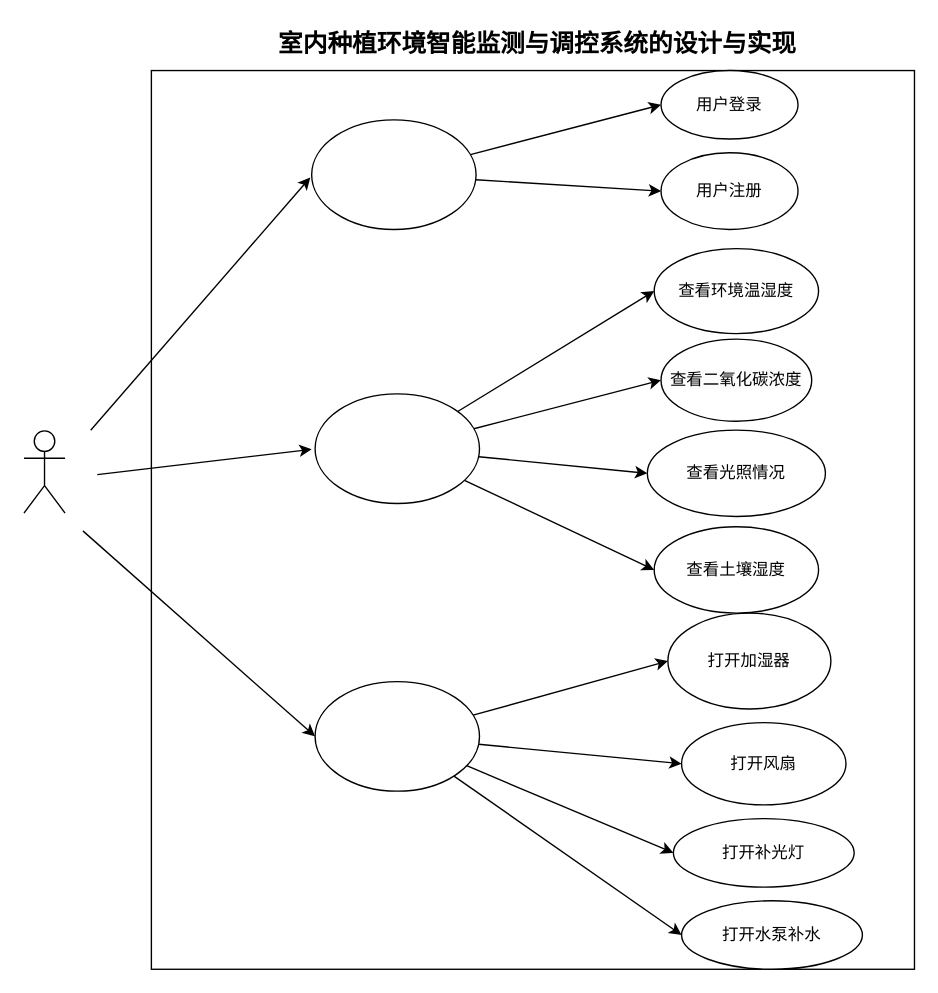
Image size: 938x993. Some labels were removed from this diagram. The shapes that lost their labels are listed below. From the top down, each one's centre as x and y in pixels, then its label:
At pixel 393 174: "用户管理".
At pixel 397 448: "数据查询".
At pixel 44 471: "Actor".
At pixel 397 735: "远程控制".
